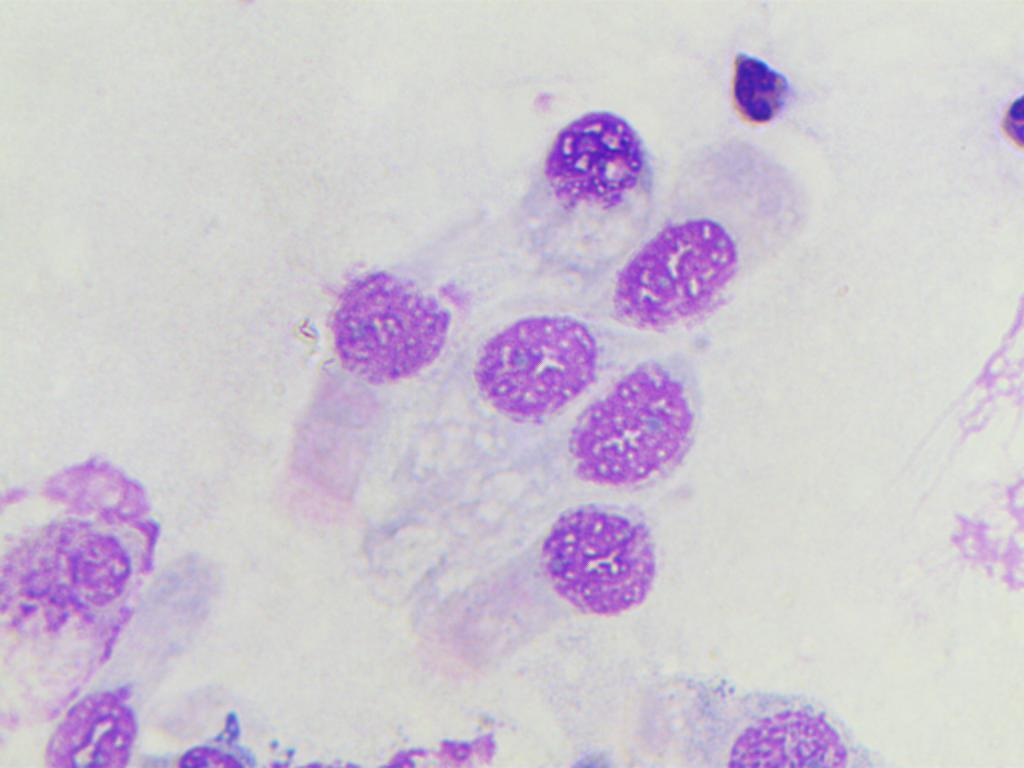artifact: (3, 457, 163, 696), (178, 697, 516, 768), (13, 683, 160, 768)
ciliated: (405, 501, 662, 683), (280, 266, 455, 520)
epithelial: (610, 176, 819, 343), (492, 108, 665, 243), (556, 356, 724, 493), (669, 668, 876, 768), (462, 315, 603, 422)
neutrophil: (708, 45, 799, 130), (988, 80, 1024, 156)
